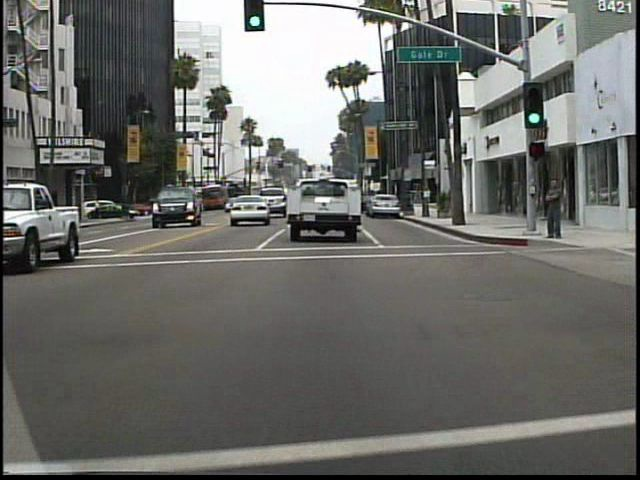person: (540, 171, 564, 246)
